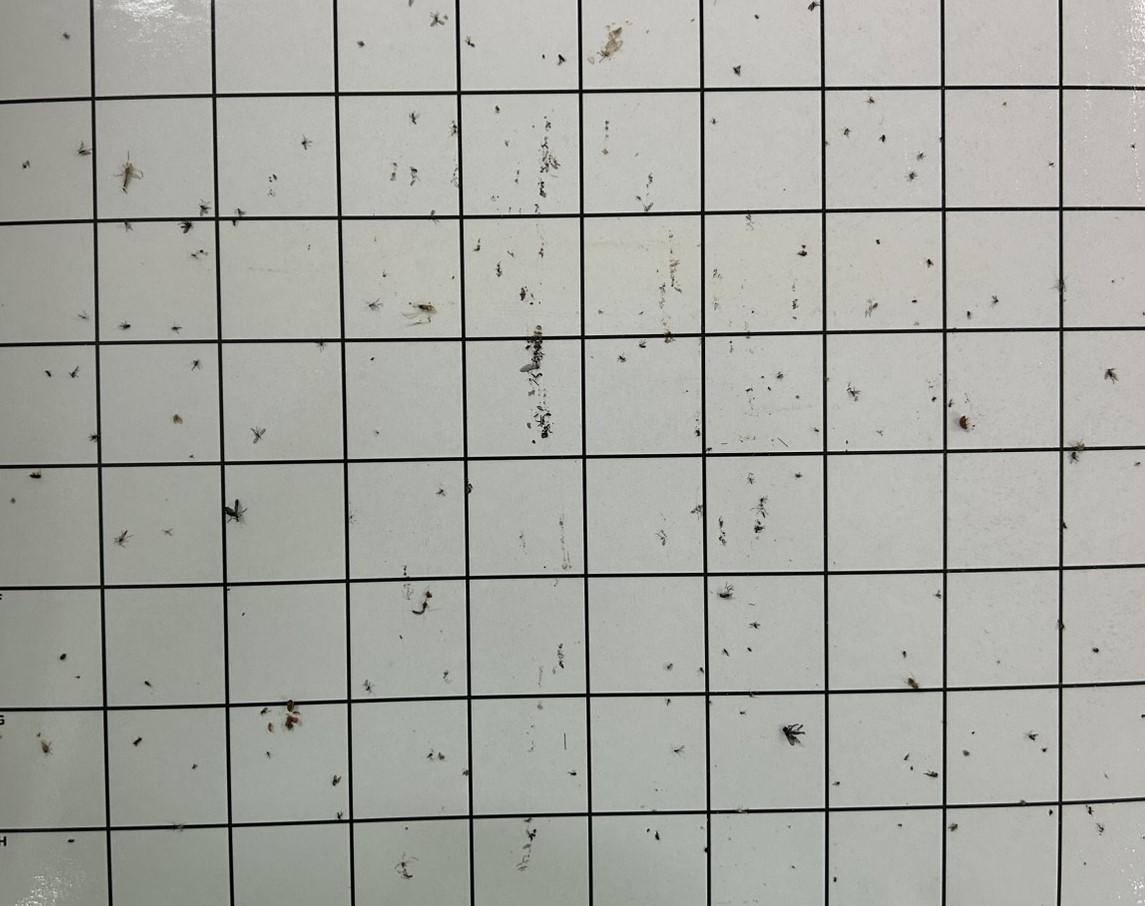fly: (782, 721, 807, 750)
test: (112, 159, 146, 194), (220, 497, 249, 524), (114, 527, 135, 549), (1101, 364, 1121, 385), (410, 599, 432, 618), (248, 427, 268, 445), (426, 11, 446, 29), (415, 300, 436, 316), (283, 714, 302, 731), (76, 140, 93, 158), (197, 202, 214, 219), (283, 697, 299, 713), (905, 676, 921, 692), (298, 135, 313, 152), (68, 363, 82, 381), (169, 412, 185, 427), (169, 321, 185, 336), (362, 679, 377, 695), (178, 219, 194, 234), (190, 357, 204, 372), (555, 52, 569, 67), (428, 209, 442, 224), (462, 482, 477, 496), (752, 519, 766, 534), (642, 200, 656, 215), (958, 414, 970, 431), (494, 262, 505, 280), (39, 741, 53, 755), (130, 735, 145, 748), (329, 773, 342, 788), (367, 298, 382, 311), (1066, 450, 1081, 463), (731, 62, 743, 78), (464, 35, 477, 49), (841, 126, 854, 140), (848, 386, 861, 400), (663, 330, 676, 344), (118, 320, 133, 332), (20, 157, 32, 172), (122, 219, 134, 234), (76, 311, 91, 323), (408, 111, 420, 126), (539, 179, 548, 198), (718, 588, 731, 601), (28, 469, 42, 481), (235, 206, 247, 220), (948, 821, 960, 835), (161, 527, 176, 538), (527, 828, 538, 843), (90, 430, 102, 443), (435, 486, 447, 499), (616, 351, 628, 364), (870, 298, 883, 310), (672, 743, 686, 754), (652, 829, 663, 843), (915, 149, 926, 163), (924, 769, 939, 779), (408, 175, 420, 187), (519, 286, 528, 302), (1056, 619, 1068, 631), (398, 858, 409, 871), (721, 646, 731, 660), (316, 338, 327, 350), (425, 749, 436, 761), (334, 810, 346, 821), (807, 1, 819, 12), (989, 294, 1001, 305), (1027, 731, 1039, 742), (1095, 821, 1106, 833), (266, 721, 276, 734), (907, 170, 917, 183), (697, 664, 707, 677), (43, 369, 54, 380), (57, 651, 68, 662), (450, 123, 461, 134), (878, 133, 889, 144), (524, 814, 535, 825), (797, 249, 809, 259), (925, 257, 935, 269), (934, 588, 944, 600), (1133, 458, 1143, 470), (756, 496, 768, 506), (557, 518, 569, 528), (790, 298, 800, 310), (143, 678, 153, 689), (436, 750, 447, 760), (567, 768, 578, 778), (230, 216, 240, 227), (270, 172, 280, 183), (493, 103, 503, 114), (409, 165, 420, 175), (388, 169, 398, 180), (1058, 520, 1069, 530), (693, 427, 703, 438), (1091, 645, 1101, 656), (961, 748, 972, 758), (902, 751, 913, 761), (596, 306, 606, 317), (502, 138, 512, 149), (425, 588, 434, 600), (62, 31, 71, 43), (751, 621, 763, 630), (557, 659, 566, 671), (441, 669, 451, 679), (702, 844, 712, 854), (866, 95, 876, 105), (1086, 805, 1096, 815), (1018, 798, 1028, 808), (524, 420, 534, 430), (355, 39, 366, 48), (35, 729, 44, 740), (746, 690, 757, 699), (831, 873, 840, 884), (664, 695, 672, 707), (259, 706, 269, 715), (462, 768, 472, 777), (665, 662, 675, 671), (67, 836, 77, 845), (474, 243, 483, 253), (752, 12, 761, 22), (1047, 160, 1057, 169), (776, 371, 786, 380), (705, 444, 714, 454), (190, 251, 199, 261), (637, 341, 648, 349), (937, 134, 945, 145), (793, 471, 804, 479), (744, 385, 755, 393), (224, 585, 233, 594), (264, 750, 273, 759), (188, 452, 197, 461), (539, 52, 548, 61), (709, 117, 718, 126), (745, 645, 754, 654), (1040, 746, 1049, 755), (1046, 807, 1055, 816), (381, 270, 389, 280), (800, 242, 808, 252), (965, 309, 973, 319), (900, 649, 908, 659), (834, 779, 842, 789), (947, 398, 955, 408), (403, 872, 414, 879), (190, 763, 198, 772), (874, 237, 882, 246), (910, 297, 919, 305), (813, 426, 822, 434), (398, 632, 405, 642), (929, 395, 939, 402), (738, 709, 748, 716), (908, 763, 915, 773), (530, 436, 537, 446), (368, 355, 376, 363), (197, 248, 205, 256), (635, 194, 643, 202), (10, 497, 17, 505), (240, 611, 247, 619), (391, 161, 399, 168), (449, 274, 457, 281), (706, 699, 714, 706), (897, 821, 904, 829), (645, 826, 652, 834), (747, 477, 755, 484), (637, 309, 644, 317), (1109, 277, 1117, 284), (513, 177, 520, 185), (1130, 142, 1136, 151), (970, 728, 976, 737), (790, 314, 799, 320), (1001, 100, 1008, 107), (790, 864, 797, 871), (766, 385, 773, 392), (374, 428, 382, 434), (1139, 712, 1145, 720), (75, 674, 82, 680), (794, 393, 801, 399), (604, 118, 609, 126), (515, 168, 520, 176), (604, 126, 610, 131)
